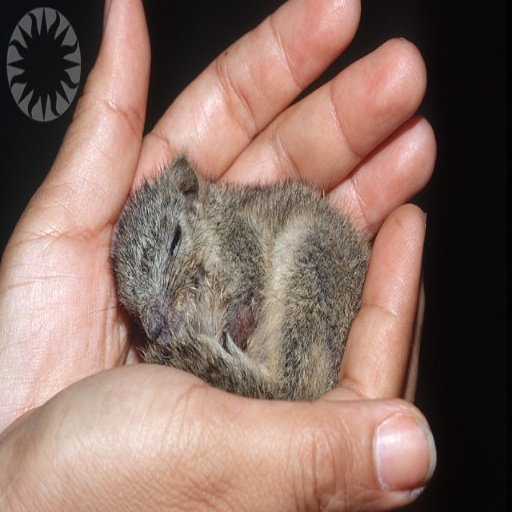hand: (0, 0, 436, 433), (0, 205, 437, 510)
